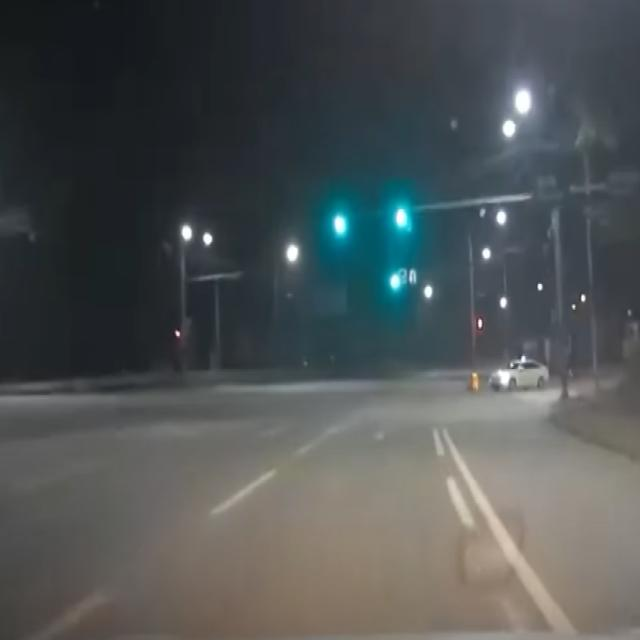Green Light: (333, 212, 349, 239), (394, 205, 410, 232), (388, 272, 401, 293)
